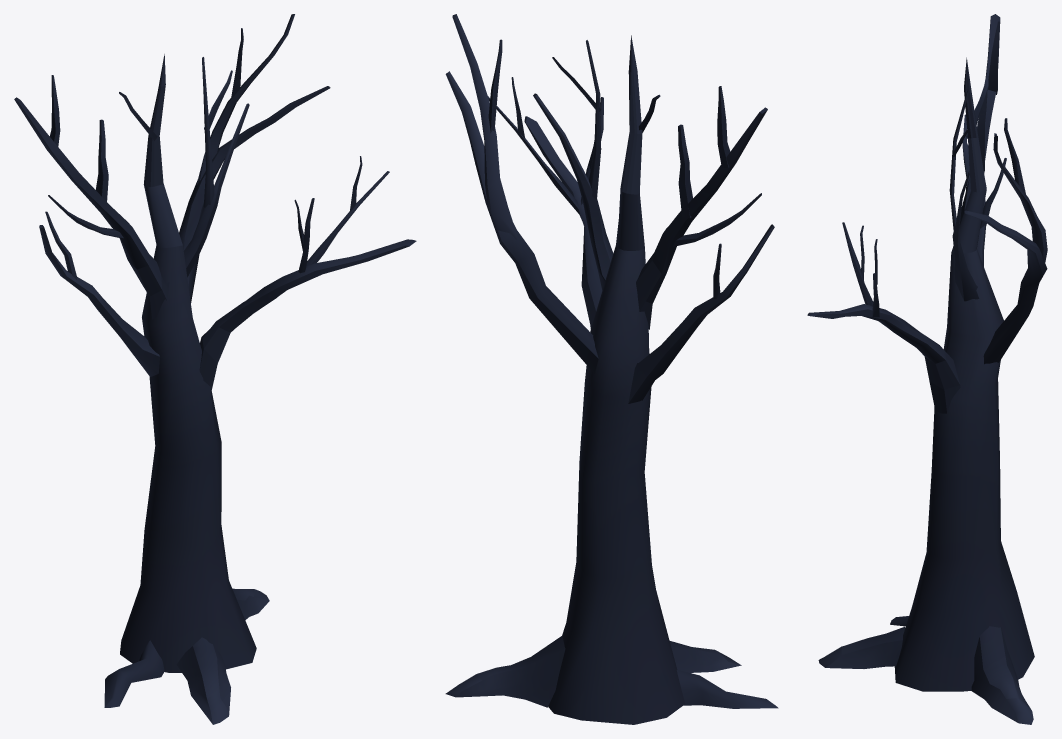
The model's file is Blue_tree01.FBX.
3 renders of one model, left to right at view 1: azimuth 30°, elevation 25°; view 2: azimuth 150°, elevation 25°; view 3: azimuth 270°, elevation 25°, orthographic. The views are drawn at different scales.
Visible parts, largest first — view 1: tree01; view 2: tree01; view 3: tree01.
Part boxes in pixels (x1=…): tree01: x1=14, y1=14, x2=416, y2=724; tree01: x1=445, y1=14, x2=778, y2=724; tree01: x1=807, y1=14, x2=1047, y2=724.
Bounding box in the file's own units: 700 × 1300 × 460.
